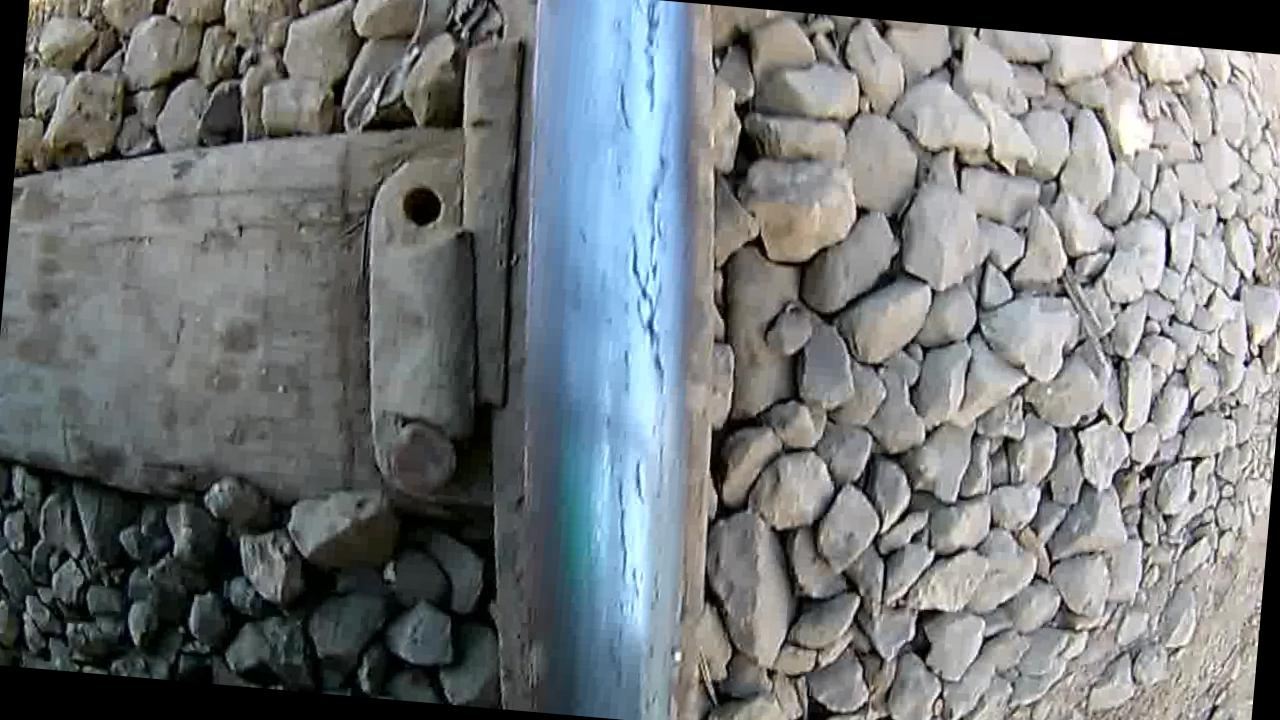normal_track: (554, 0, 707, 634)
